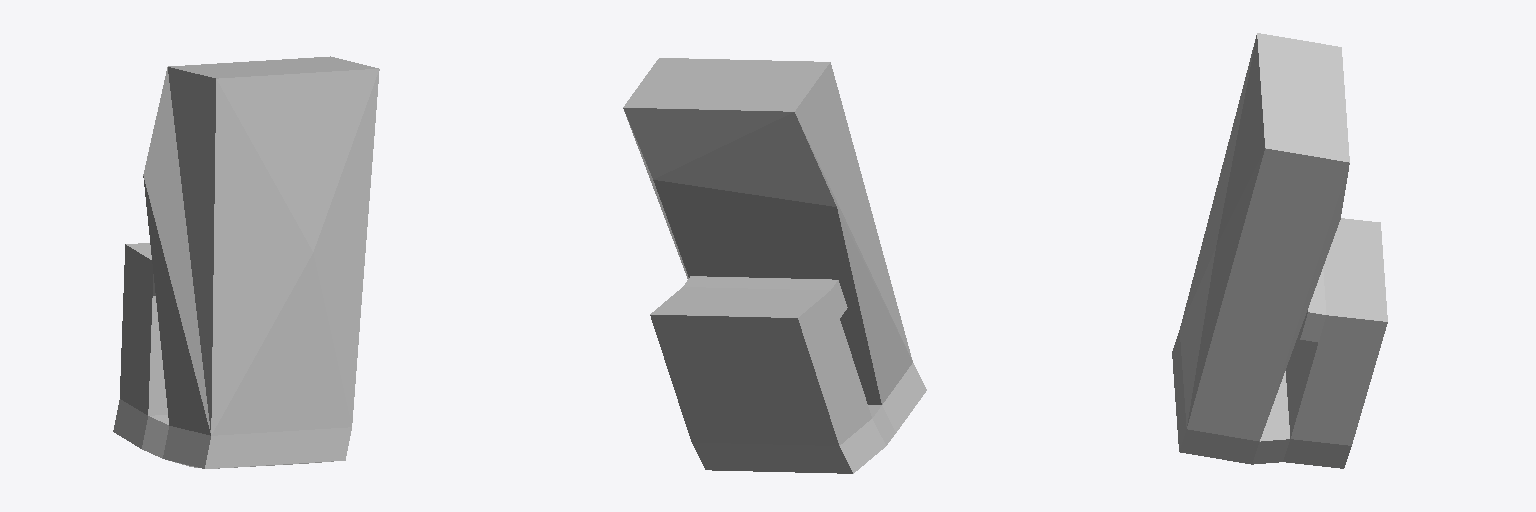
File: righthand.obj
3 views of the same model, side by side, from view 1: azimuth 30°, elevation 25°; view 2: azimuth 150°, elevation 25°; view 3: azimuth 270°, elevation 25° (orthographic).
Parts seen in each view (by area): view 1: righthand_hand.003; view 2: righthand_hand.003; view 3: righthand_hand.003.
Boxes of the visible parts, box(x1,y1,x2,y2) form: righthand_hand.003: box(113, 56, 379, 468); righthand_hand.003: box(623, 58, 926, 473); righthand_hand.003: box(1172, 33, 1387, 468).
Size of the model in its own units: 0.2566 by 0.4177 by 0.2062.